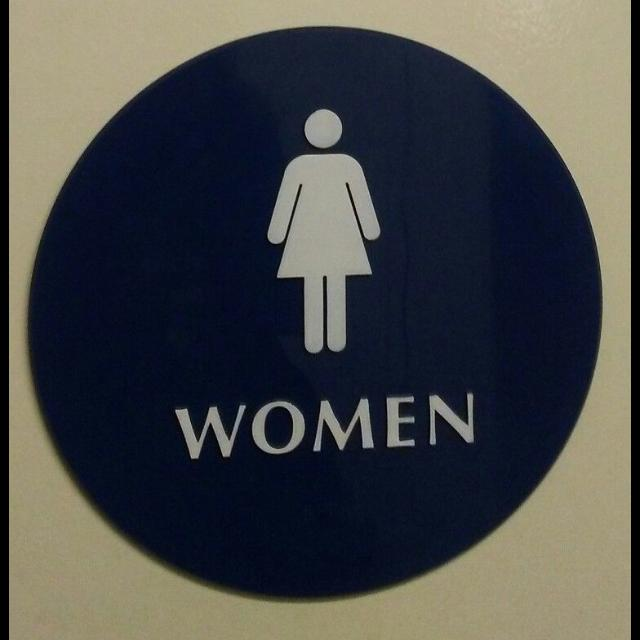womens_restroom: (29, 29, 602, 597)
